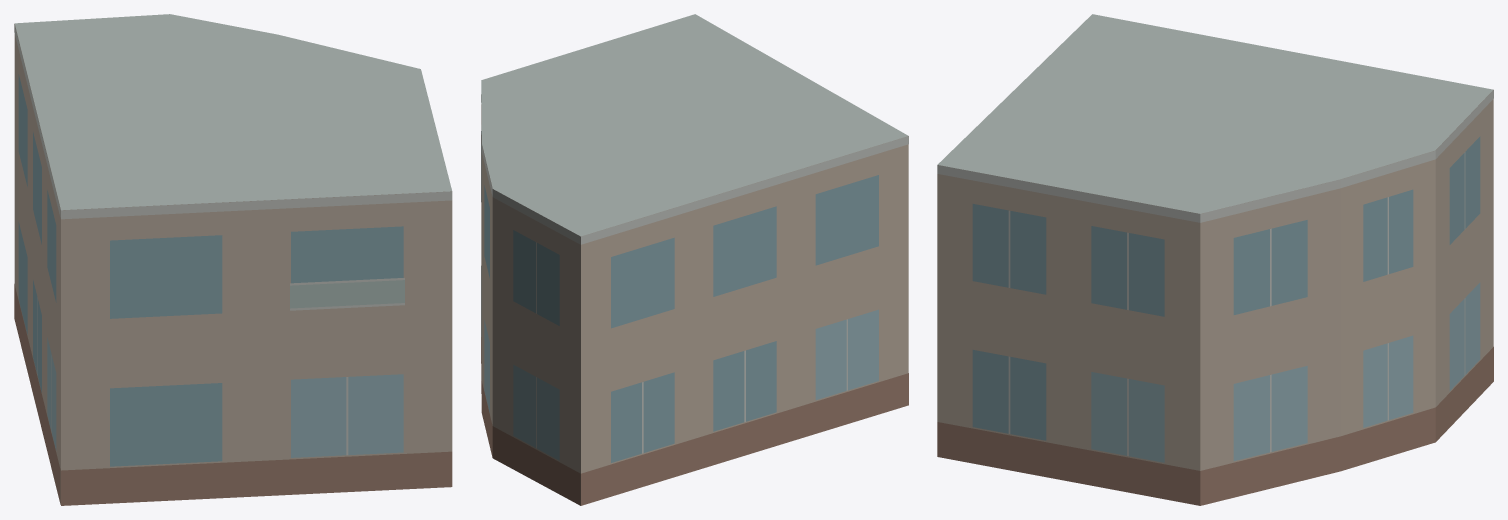
Rendered from survey-upis-32497063.glb.
3 renders of one model, left to right at view 1: azimuth 30°, elevation 25°; view 2: azimuth 150°, elevation 25°; view 3: azimuth 270°, elevation 25°, orthographic. The views are drawn at different scales.
Visible parts, largest first — view 1: survey-upis-32497063.tmp; view 2: survey-upis-32497063.tmp; view 3: survey-upis-32497063.tmp.
Boxes of the visible parts, left/top/right/bottom form: survey-upis-32497063.tmp: left=14, top=14, right=452, bottom=505; survey-upis-32497063.tmp: left=481, top=14, right=908, bottom=505; survey-upis-32497063.tmp: left=937, top=14, right=1493, bottom=505.
Bounding box in the file's own units: 11.61 × 7.9 × 13.65.
